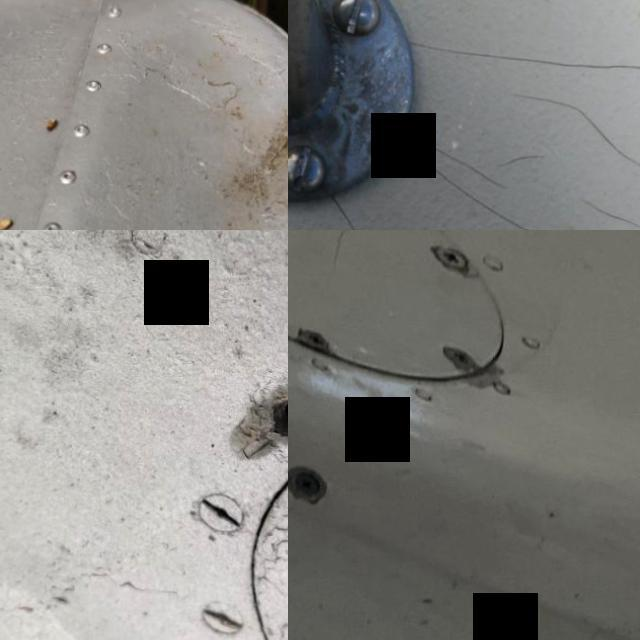Crack: (397, 144, 543, 230), (514, 89, 640, 171), (405, 35, 640, 74), (402, 131, 511, 191), (573, 192, 640, 230), (324, 188, 358, 230), (496, 151, 542, 167)
Missing_Fastener: (236, 355, 288, 473)
